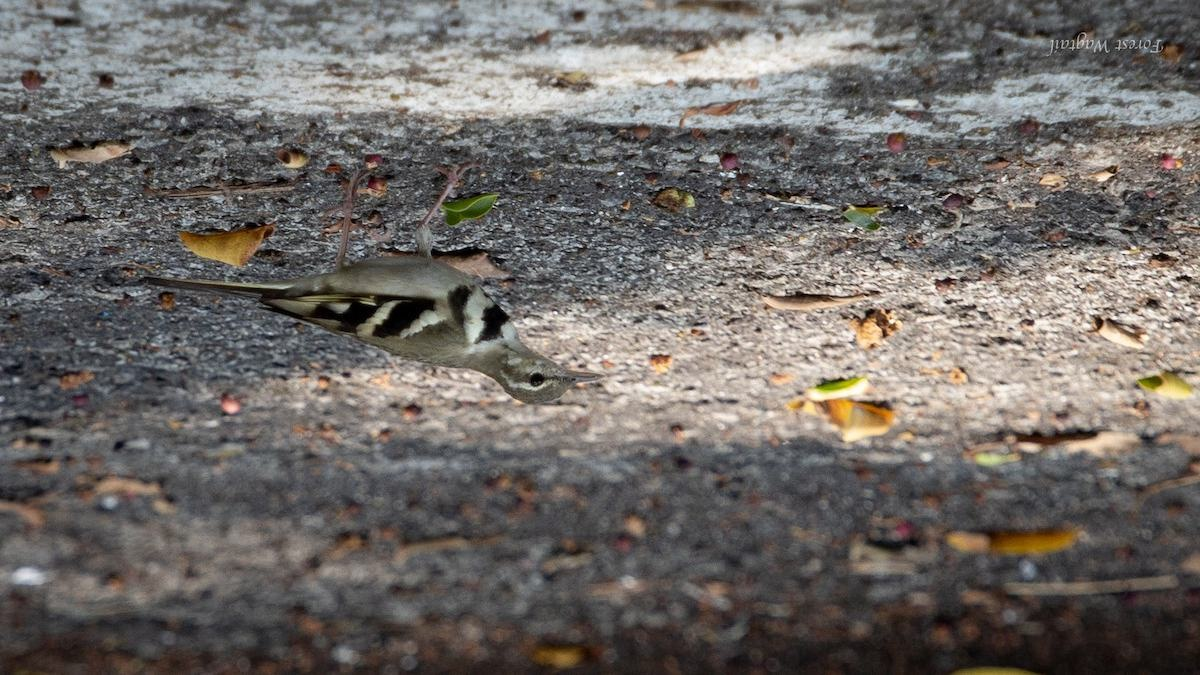wagtail: (224, 204, 596, 407)
